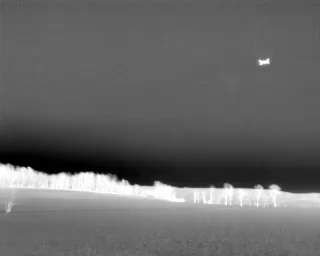DRONE: (254, 54, 275, 71)
